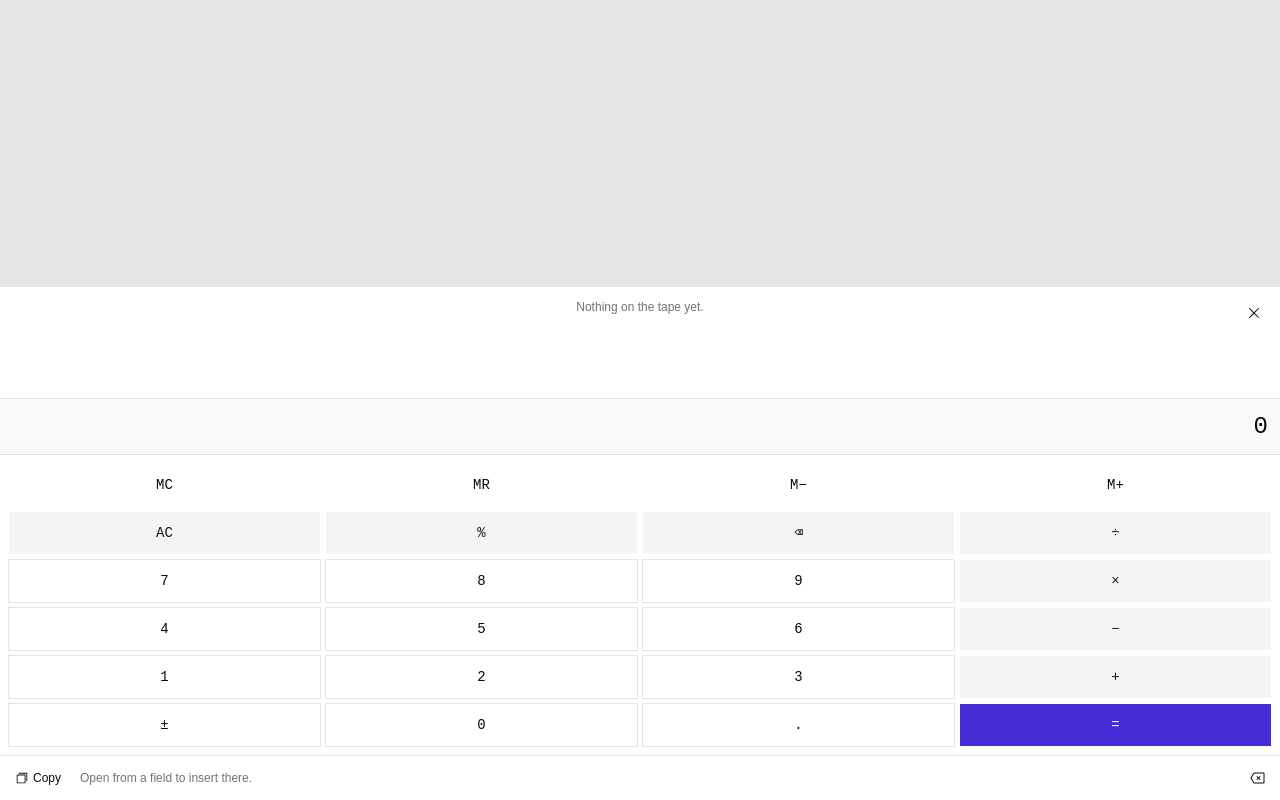
Test: CalculatorPanel › totals through the keypad and offers the result
Step 1. Click the button "7" → x=164, y=581, box [8,559,321,603]
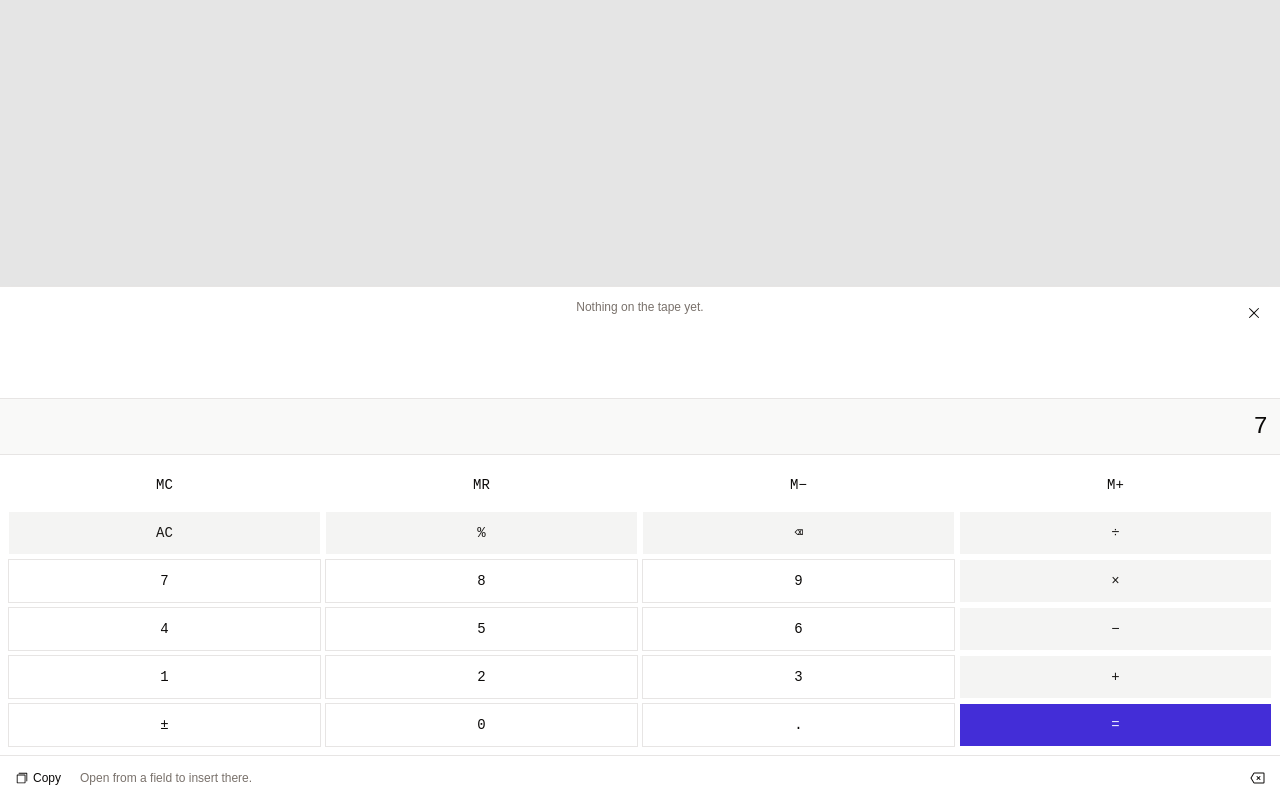
Step 2. Click the button named "Add" → x=1116, y=677, box [959,655,1272,699]
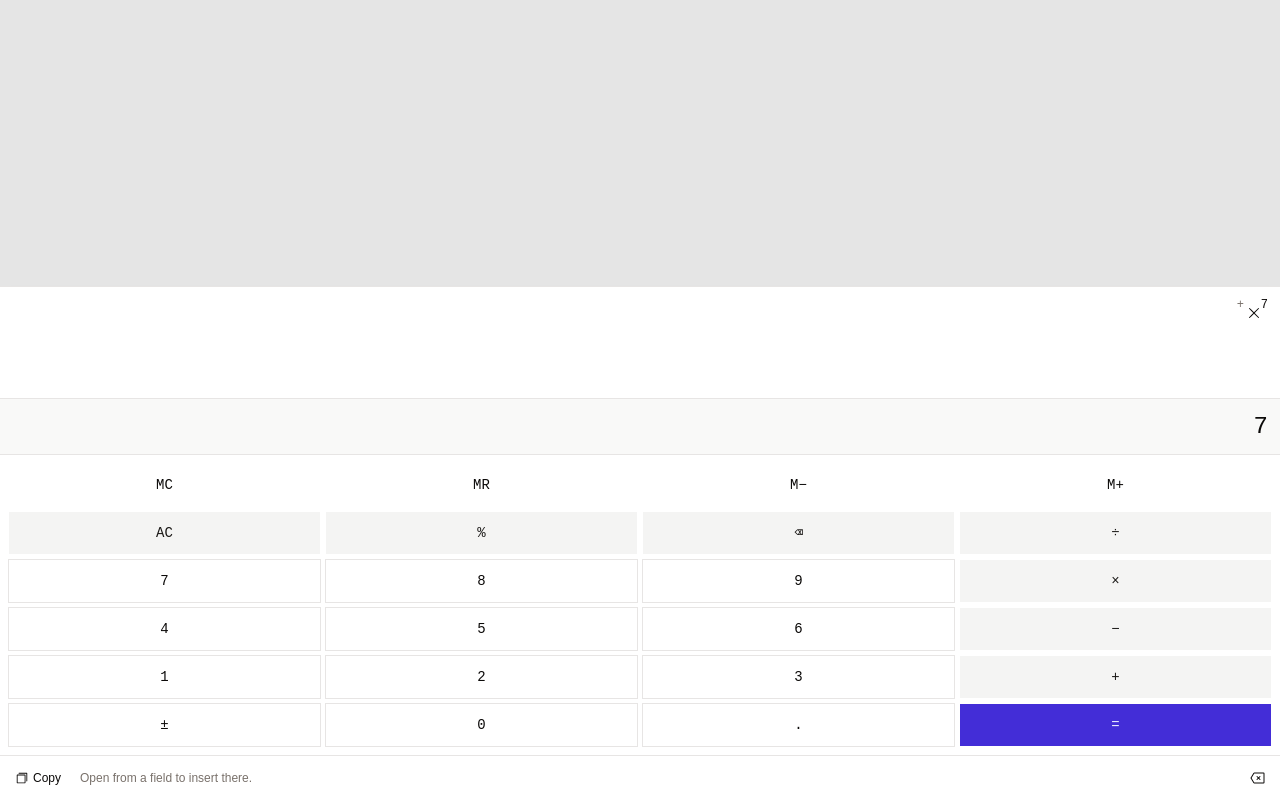
Step 3. Click the button "8" → x=482, y=581, box [325,559,638,603]
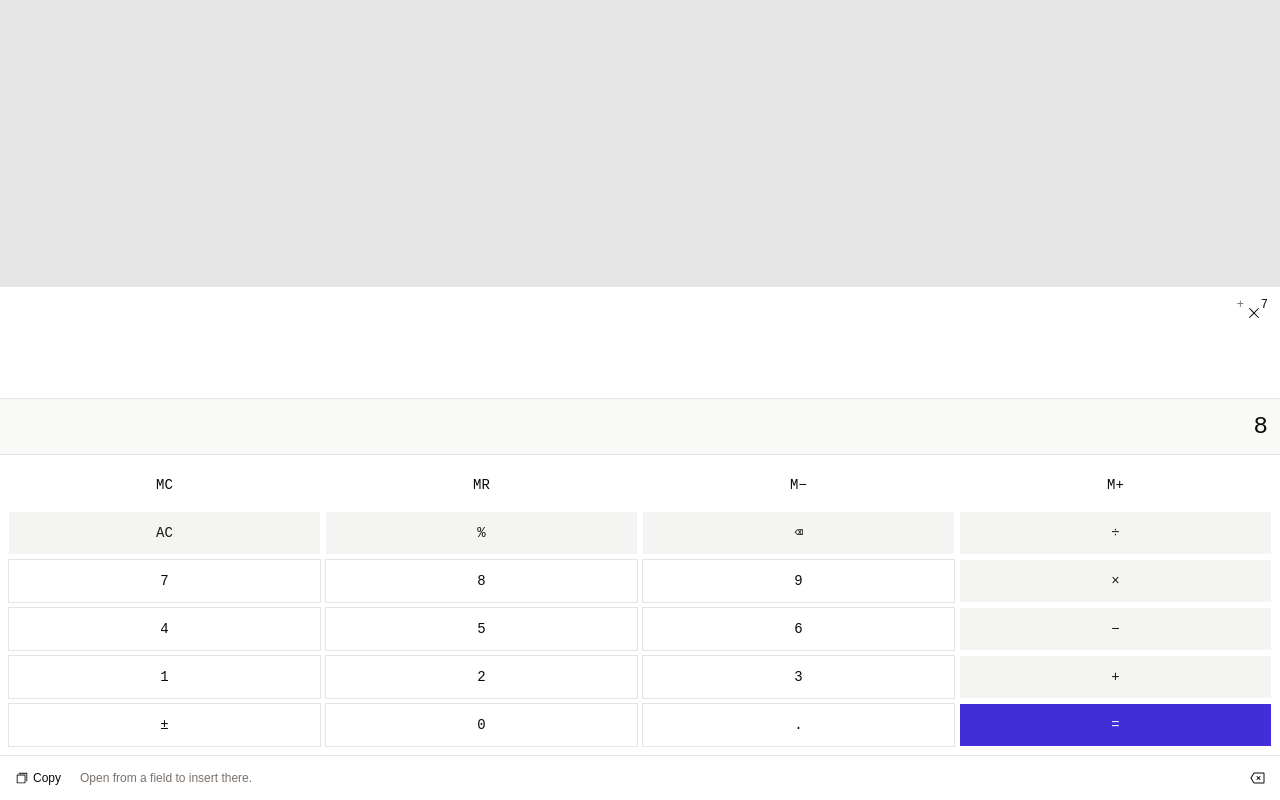
Step 4. Click the button named "Equals" → x=1116, y=725, box [959,703,1272,747]
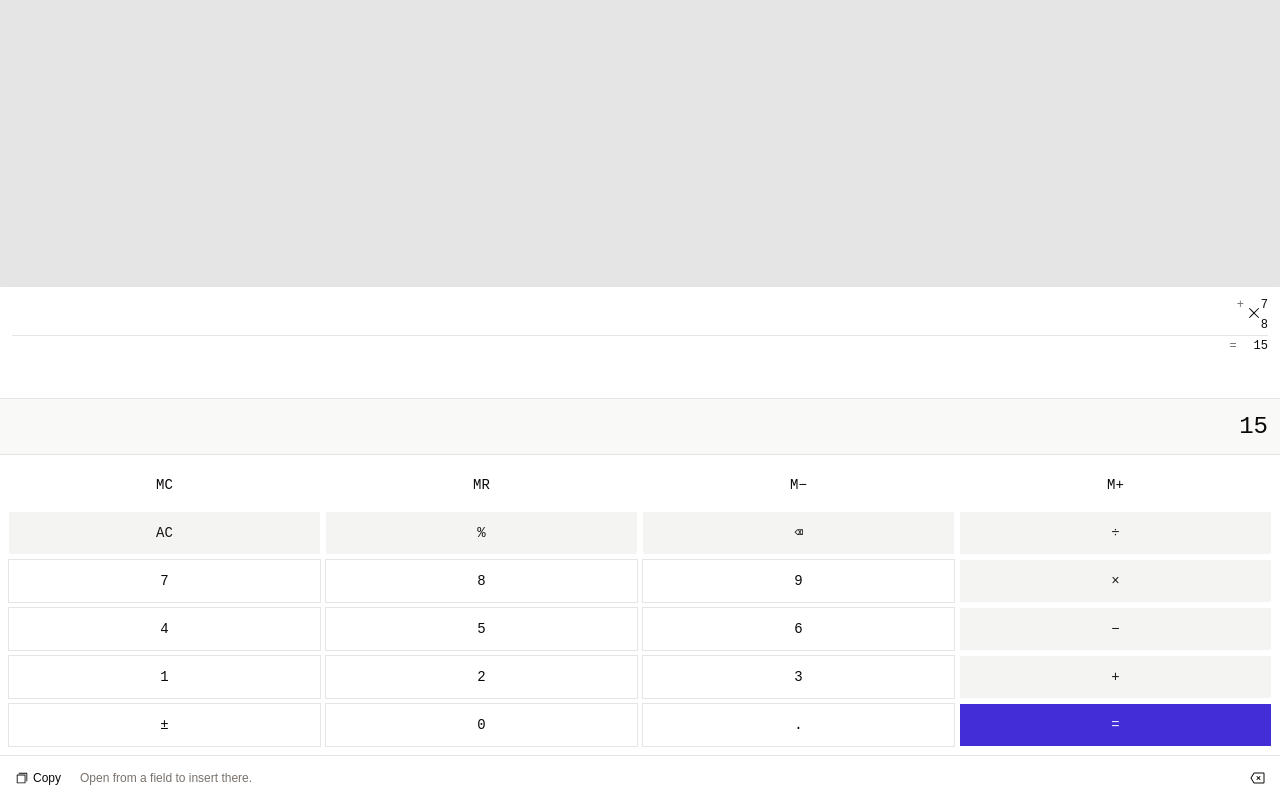
Check: the button "Copy" is shown, box [8,764,72,792]
Check: the message named "Calculator display" reads "15", box [1239,412,1268,440]
